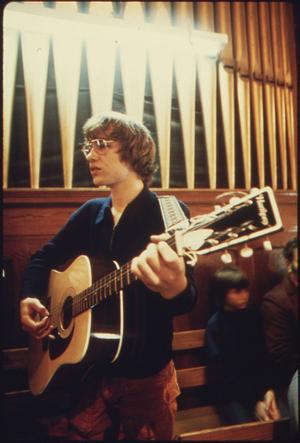person: (19, 113, 196, 442)
